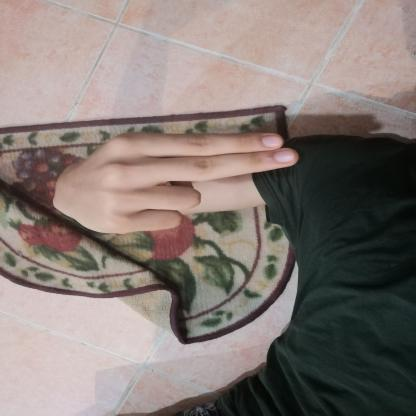AYN: (35, 121, 318, 246)
